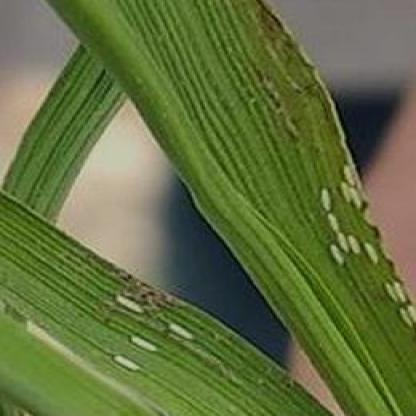whorl-maggot: (106, 286, 152, 320), (127, 331, 160, 362), (166, 319, 200, 348), (107, 354, 142, 378), (356, 233, 381, 266), (319, 240, 346, 270), (320, 208, 344, 237), (384, 278, 405, 306), (340, 160, 358, 192), (400, 300, 416, 330), (320, 186, 335, 211), (334, 183, 351, 203)
